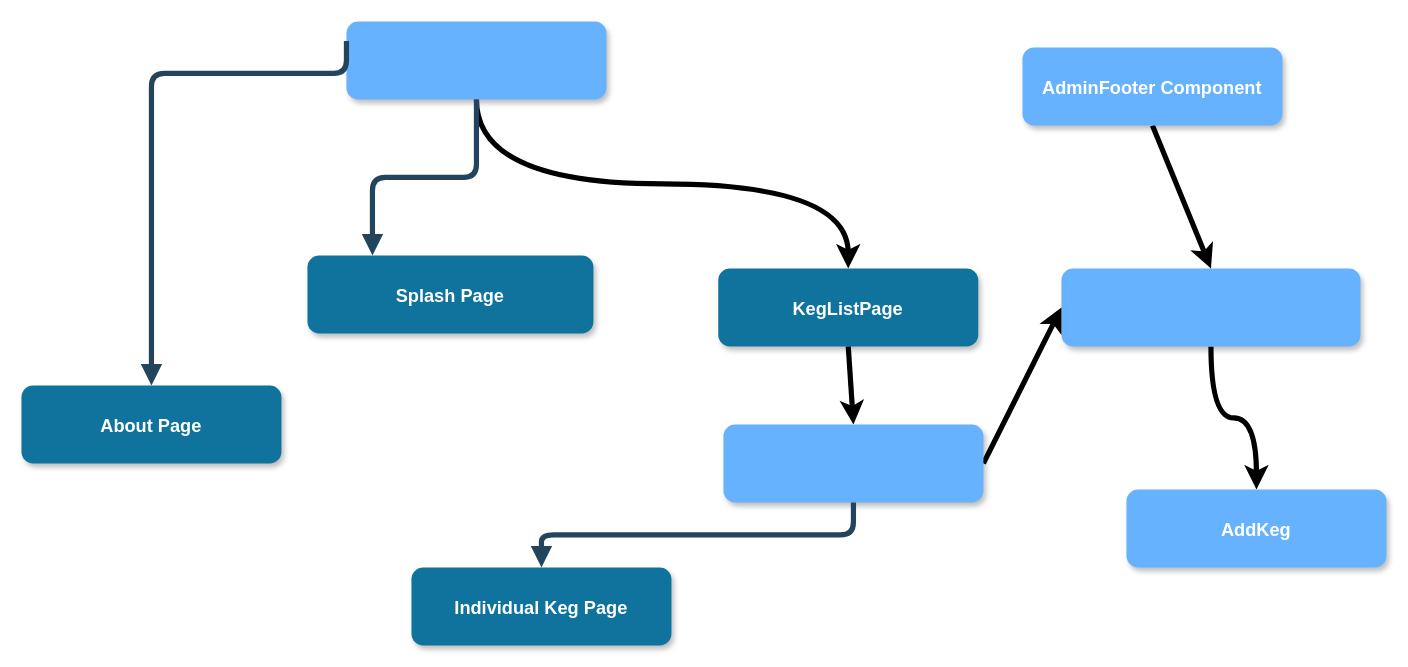
The diagram is 1408 pixels wide and 667 high, and some of its shapes have lost their labels. Here are the shapes that lost their labels. From the top down, the centre of each, then its label:
At [477,62]: "Nav Component".
At [1212,309]: "KegAdmin Component".
At [854,465]: "Keg Component".
